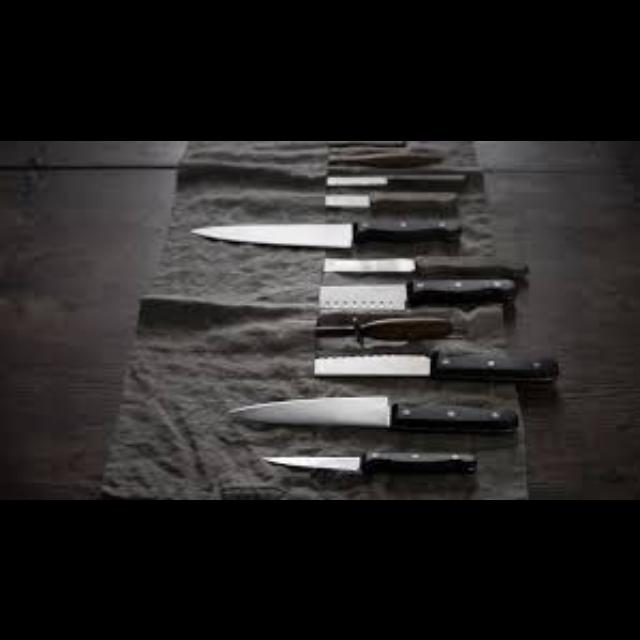knife: (227, 393, 518, 431), (313, 348, 559, 380), (188, 218, 462, 246), (307, 282, 535, 312), (261, 448, 477, 474), (322, 254, 528, 276), (322, 190, 466, 206), (324, 170, 468, 184)
